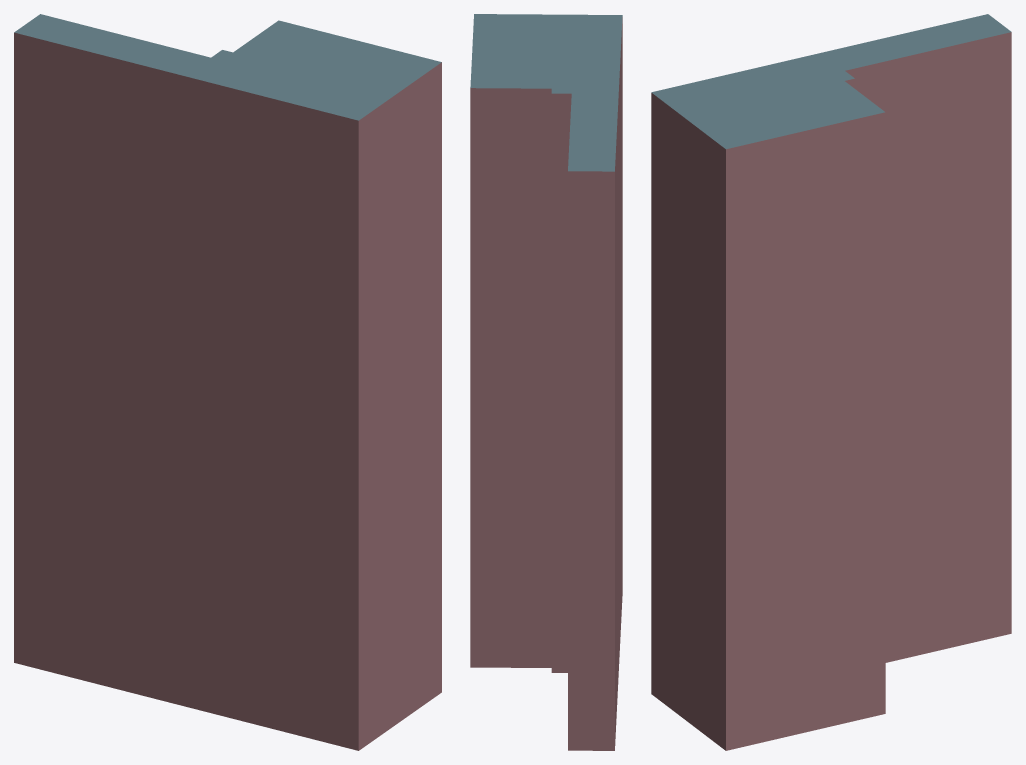
File: nyc-1024663-0.glb
3 renders of one model, left to right at view 1: azimuth 30°, elevation 25°; view 2: azimuth 150°, elevation 25°; view 3: azimuth 270°, elevation 25°, orthographic. The views are drawn at different scales.
Visible parts, largest first — view 1: nyc-1024663-0; view 2: nyc-1024663-0; view 3: nyc-1024663-0.
Part boxes in pixels (left/top/right/bottom): nyc-1024663-0: left=14, top=14, right=441, bottom=750; nyc-1024663-0: left=470, top=14, right=622, bottom=750; nyc-1024663-0: left=651, top=14, right=1011, bottom=750.
Bounding box in the file's own units: 50.1 × 104 × 56.42.
